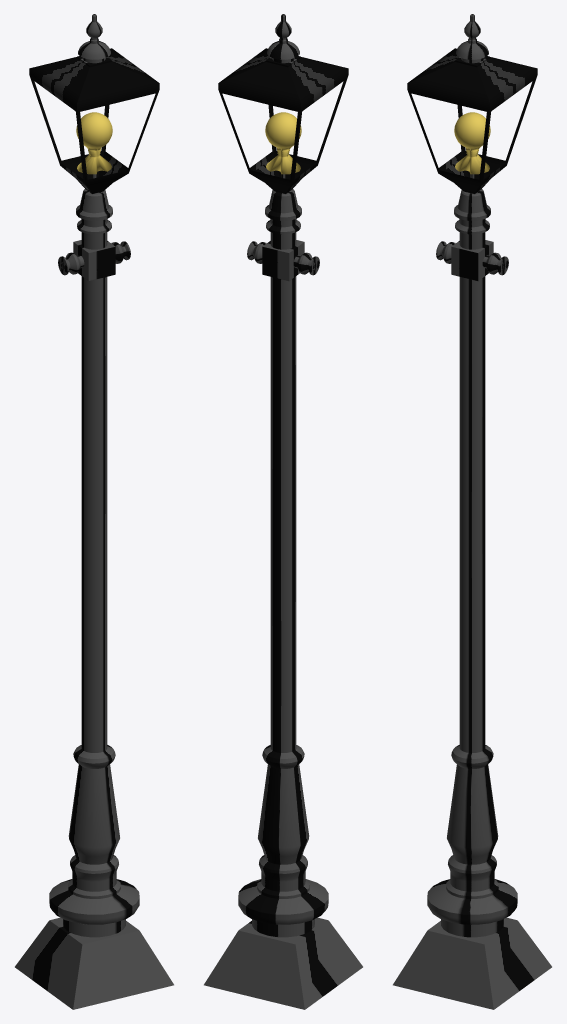
The model's file is lampara.obj.
The picture shows the model from 3 angles, left to right: view 1: azimuth 30°, elevation 25°; view 2: azimuth 150°, elevation 25°; view 3: azimuth 330°, elevation 25°; orthographic projection.
Parts seen in each view (by area): view 1: polySurface18, polySurface17, polySurface23, Sphere, polySurface22, polySurface19, polySurface20; view 2: polySurface18, polySurface17, polySurface23, Sphere, polySurface22, polySurface19, polySurface20; view 3: polySurface18, polySurface17, polySurface23, Sphere, polySurface22, polySurface19, polySurface21.
Boxes of the visible parts, x1,y1,x2,y2 form: polySurface18: (49, 174, 139, 937); polySurface17: (15, 917, 173, 1009); polySurface23: (29, 48, 159, 193); Sphere: (76, 112, 112, 174); polySurface22: (73, 240, 115, 280); polySurface19: (78, 14, 110, 63); polySurface20: (58, 252, 84, 275); polySurface18: (238, 174, 328, 937); polySurface17: (204, 917, 362, 1009); polySurface23: (218, 48, 348, 193); Sphere: (265, 112, 301, 174); polySurface22: (262, 240, 304, 280); polySurface19: (267, 14, 299, 63); polySurface20: (293, 252, 319, 275); polySurface18: (427, 174, 517, 937); polySurface17: (393, 917, 551, 1009); polySurface23: (407, 48, 537, 193); Sphere: (454, 112, 490, 174); polySurface22: (451, 240, 493, 280); polySurface19: (456, 14, 488, 63); polySurface21: (482, 252, 508, 275).
Bounding box in the file's own units: 0.6227 × 5.64 × 0.6228.
